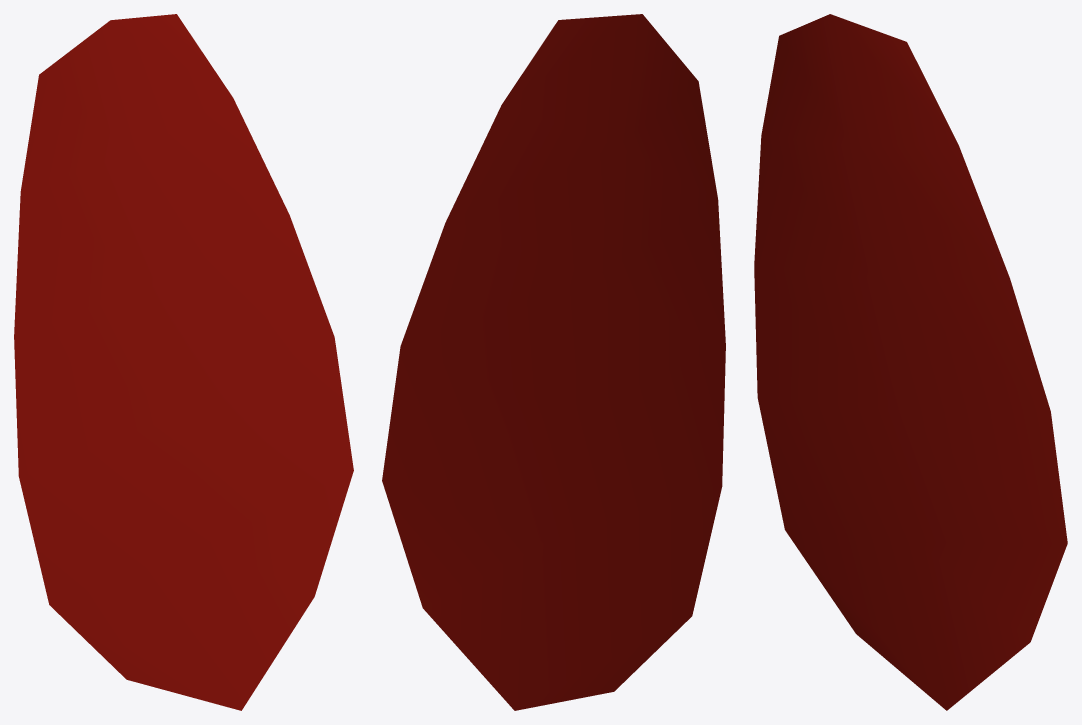
File: ara_feather_flight_tertiary_019.obj
3 views of the same model, side by side, from view 1: azimuth 30°, elevation 25°; view 2: azimuth 150°, elevation 25°; view 3: azimuth 330°, elevation 25° (orthographic). The views are drawn at different scales.
Visible parts, largest first — view 1: feather_flight_tertiary_019; view 2: feather_flight_tertiary_019; view 3: feather_flight_tertiary_019.
Boxes of the visible parts, x1=… form: feather_flight_tertiary_019: x1=14, y1=14, x2=353, y2=710; feather_flight_tertiary_019: x1=382, y1=14, x2=725, y2=710; feather_flight_tertiary_019: x1=754, y1=14, x2=1067, y2=710.
Bounding box in the file's own units: 0.0171 × 0.0346 × 0.000946.
